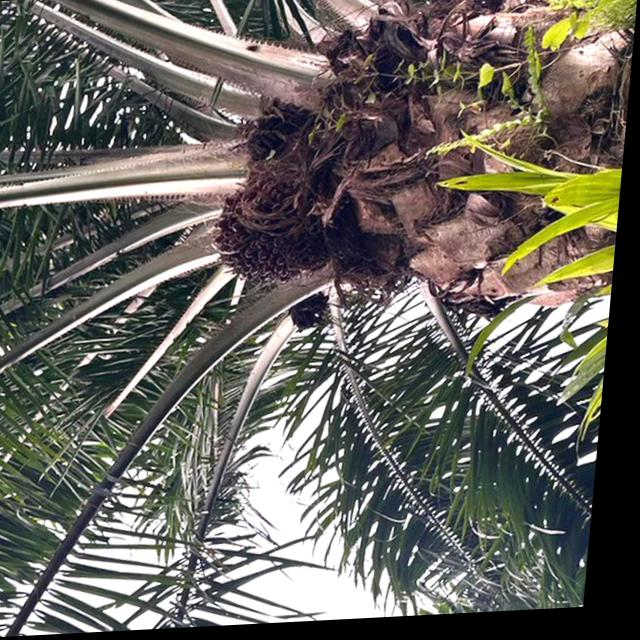ripe: (209, 173, 337, 293)
